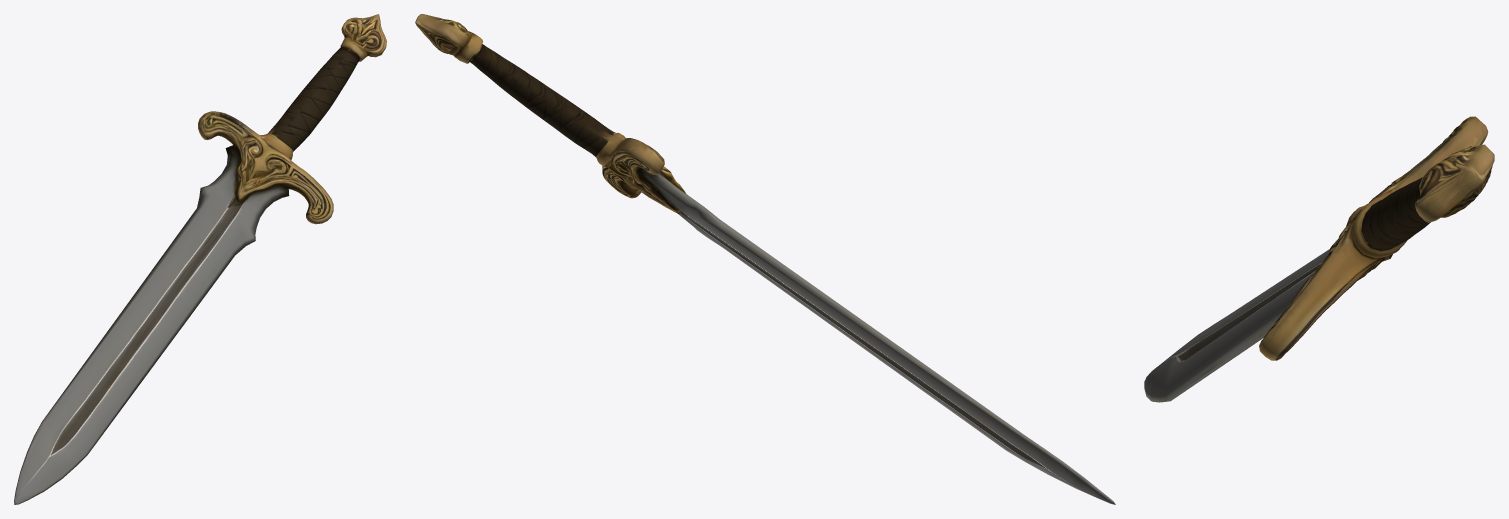
The model's file is sword_realistic_style_c8160504_v2.glb.
3 views of the same model, side by side, from view 1: azimuth 30°, elevation 25°; view 2: azimuth 150°, elevation 25°; view 3: azimuth 270°, elevation 25° (orthographic). The views are drawn at different scales.
Parts seen in each view (by area): view 1: texture_pbr_20250901; view 2: texture_pbr_20250901; view 3: texture_pbr_20250901.
Boxes of the visible parts, x1,y1,x2,y2 form: texture_pbr_20250901: (14,14,386,504); texture_pbr_20250901: (415,14,1115,504); texture_pbr_20250901: (1144,116,1494,402).
Size of the model in its own units: 1.9 by 1.31 by 0.6445.
Materials: 1 (1 with a texture image).
